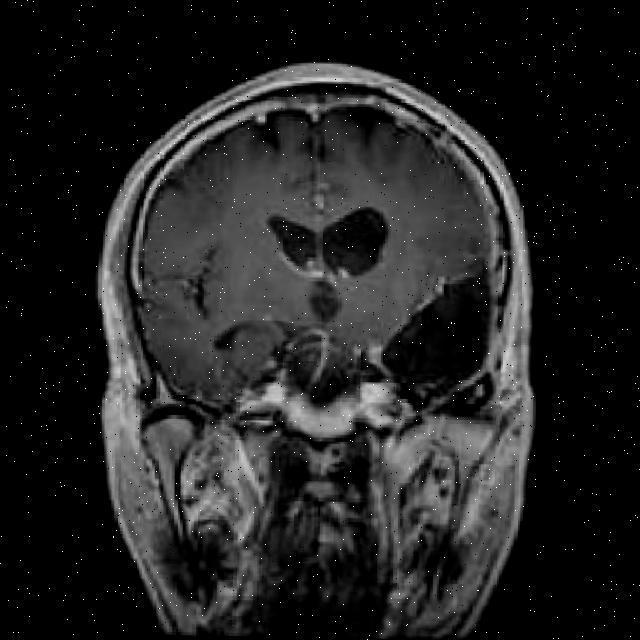EMCI: (370, 269, 556, 446)
